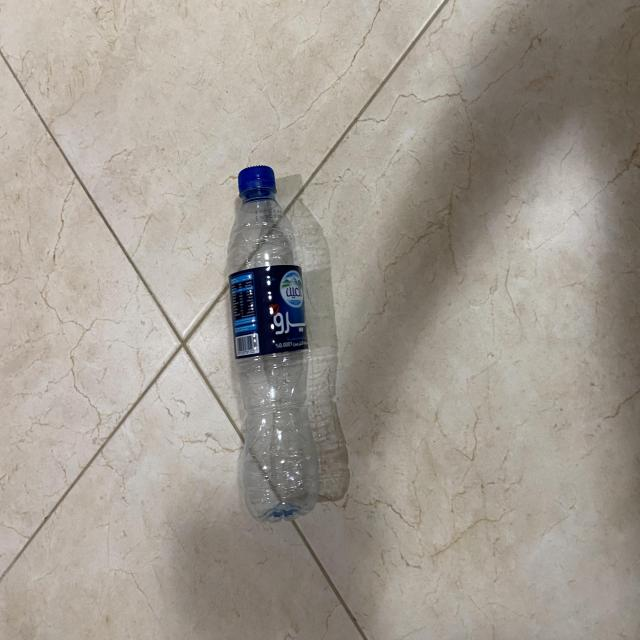bottle: (220, 164, 318, 516)
